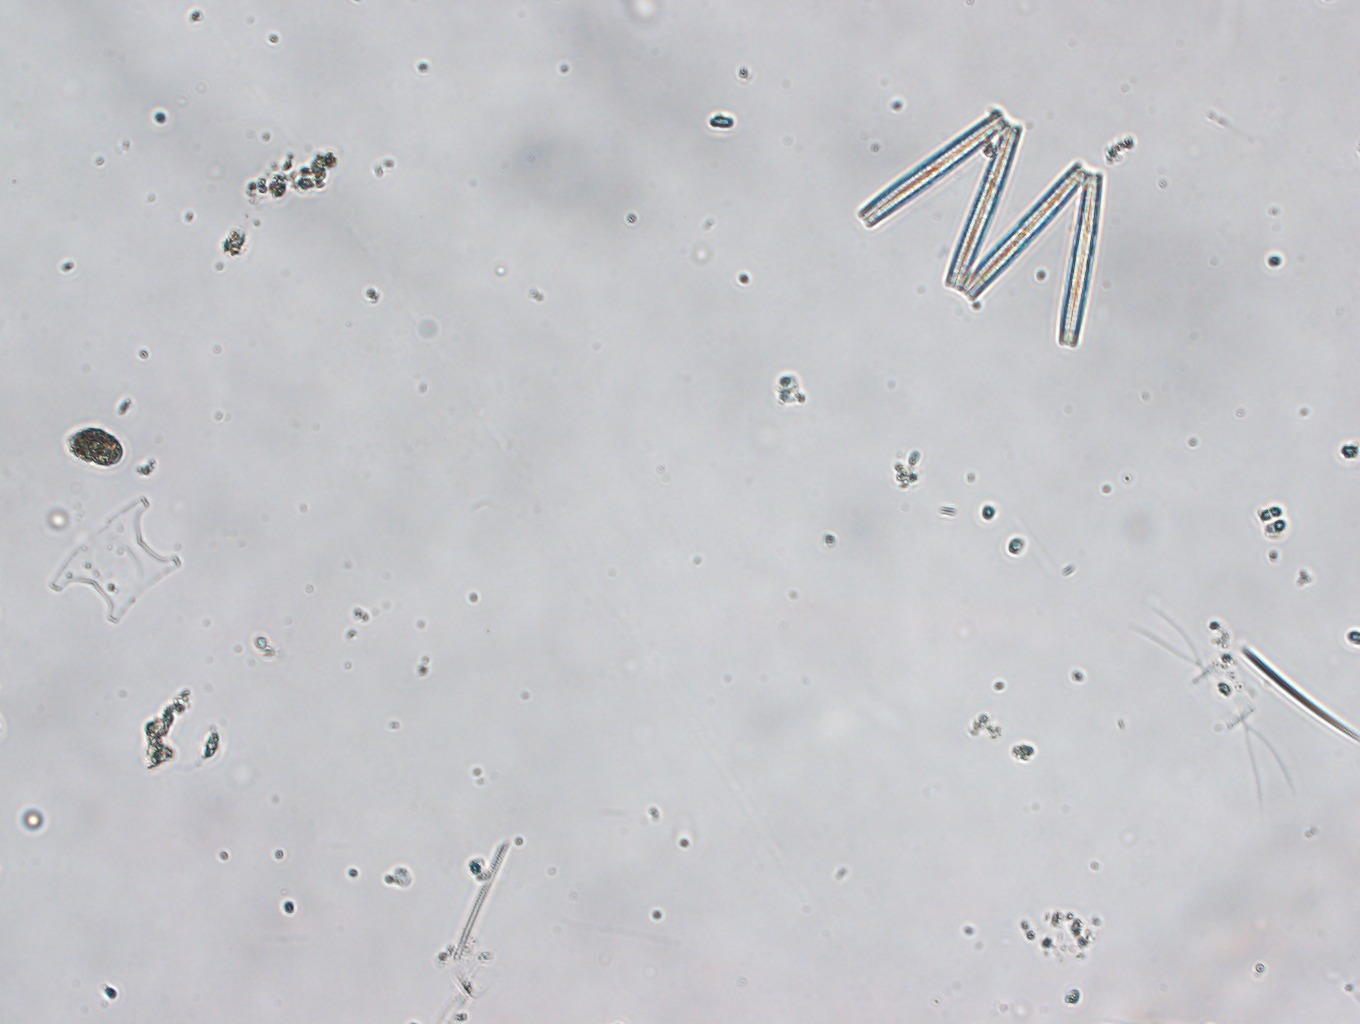chaetoceros: (1129, 599, 1295, 817)
eucampia: (51, 496, 181, 626)
thalassionema nitzschioides: (855, 108, 1105, 351)
